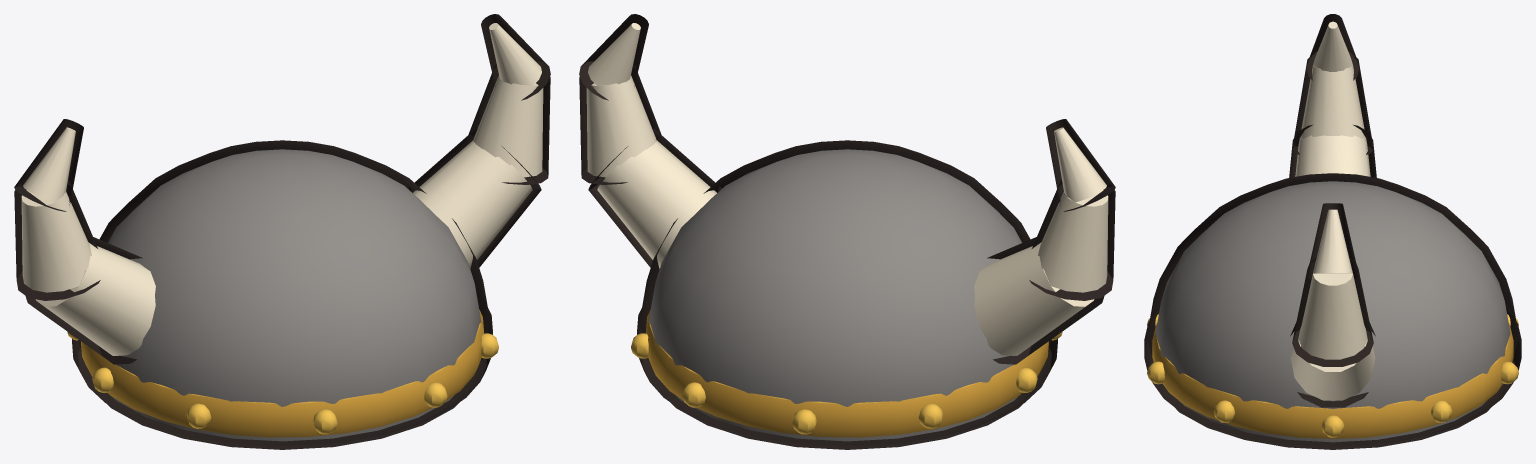
File: hat_viking.fbx
3 views of the same model, side by side, from view 1: azimuth 30°, elevation 25°; view 2: azimuth 150°, elevation 25°; view 3: azimuth 270°, elevation 25° (orthographic). The views are drawn at different scales.
Parts seen in each view (by area): view 1: hat_viking_C_8E8A86, hat_viking_C_F4E7CC, hat_viking_Outline, hat_viking_C_D9A33B, hat_viking_C_F2C14E; view 2: hat_viking_C_8E8A86, hat_viking_C_F4E7CC, hat_viking_Outline, hat_viking_C_D9A33B, hat_viking_C_F2C14E; view 3: hat_viking_C_8E8A86, hat_viking_C_F4E7CC, hat_viking_Outline, hat_viking_C_D9A33B, hat_viking_C_F2C14E.
Boxes of the visible parts, left/top/right/bottom form: hat_viking_C_8E8A86: left=108, top=149, right=481, bottom=441; hat_viking_C_F4E7CC: left=21, top=23, right=543, bottom=355; hat_viking_Outline: left=14, top=14, right=550, bottom=449; hat_viking_C_D9A33B: left=81, top=310, right=484, bottom=437; hat_viking_C_F2C14E: left=67, top=331, right=498, bottom=434; hat_viking_C_8E8A86: left=648, top=149, right=1021, bottom=441; hat_viking_C_F4E7CC: left=586, top=23, right=1108, bottom=355; hat_viking_Outline: left=579, top=14, right=1115, bottom=449; hat_viking_C_D9A33B: left=645, top=310, right=1048, bottom=437; hat_viking_C_F2C14E: left=631, top=331, right=1062, bottom=434; hat_viking_C_8E8A86: left=1155, top=181, right=1510, bottom=442; hat_viking_C_F4E7CC: left=1290, top=21, right=1375, bottom=400; hat_viking_Outline: left=1144, top=14, right=1521, bottom=449; hat_viking_C_D9A33B: left=1152, top=323, right=1513, bottom=438; hat_viking_C_F2C14E: left=1147, top=314, right=1518, bottom=437.
Bounding box in the file's own units: 0.9494 × 0.5159 × 0.6575.
